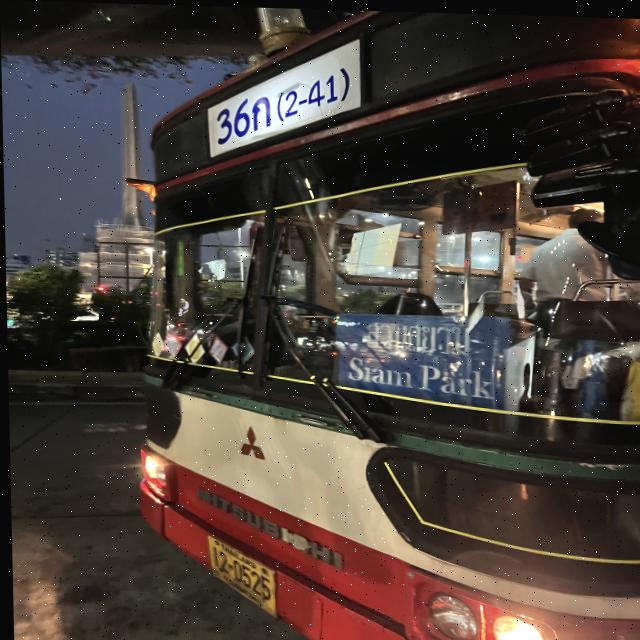BMTA-bus: (106, 2, 640, 640)
Bus Line Number: (208, 36, 356, 153)
Destination Sign: (336, 310, 505, 405)
